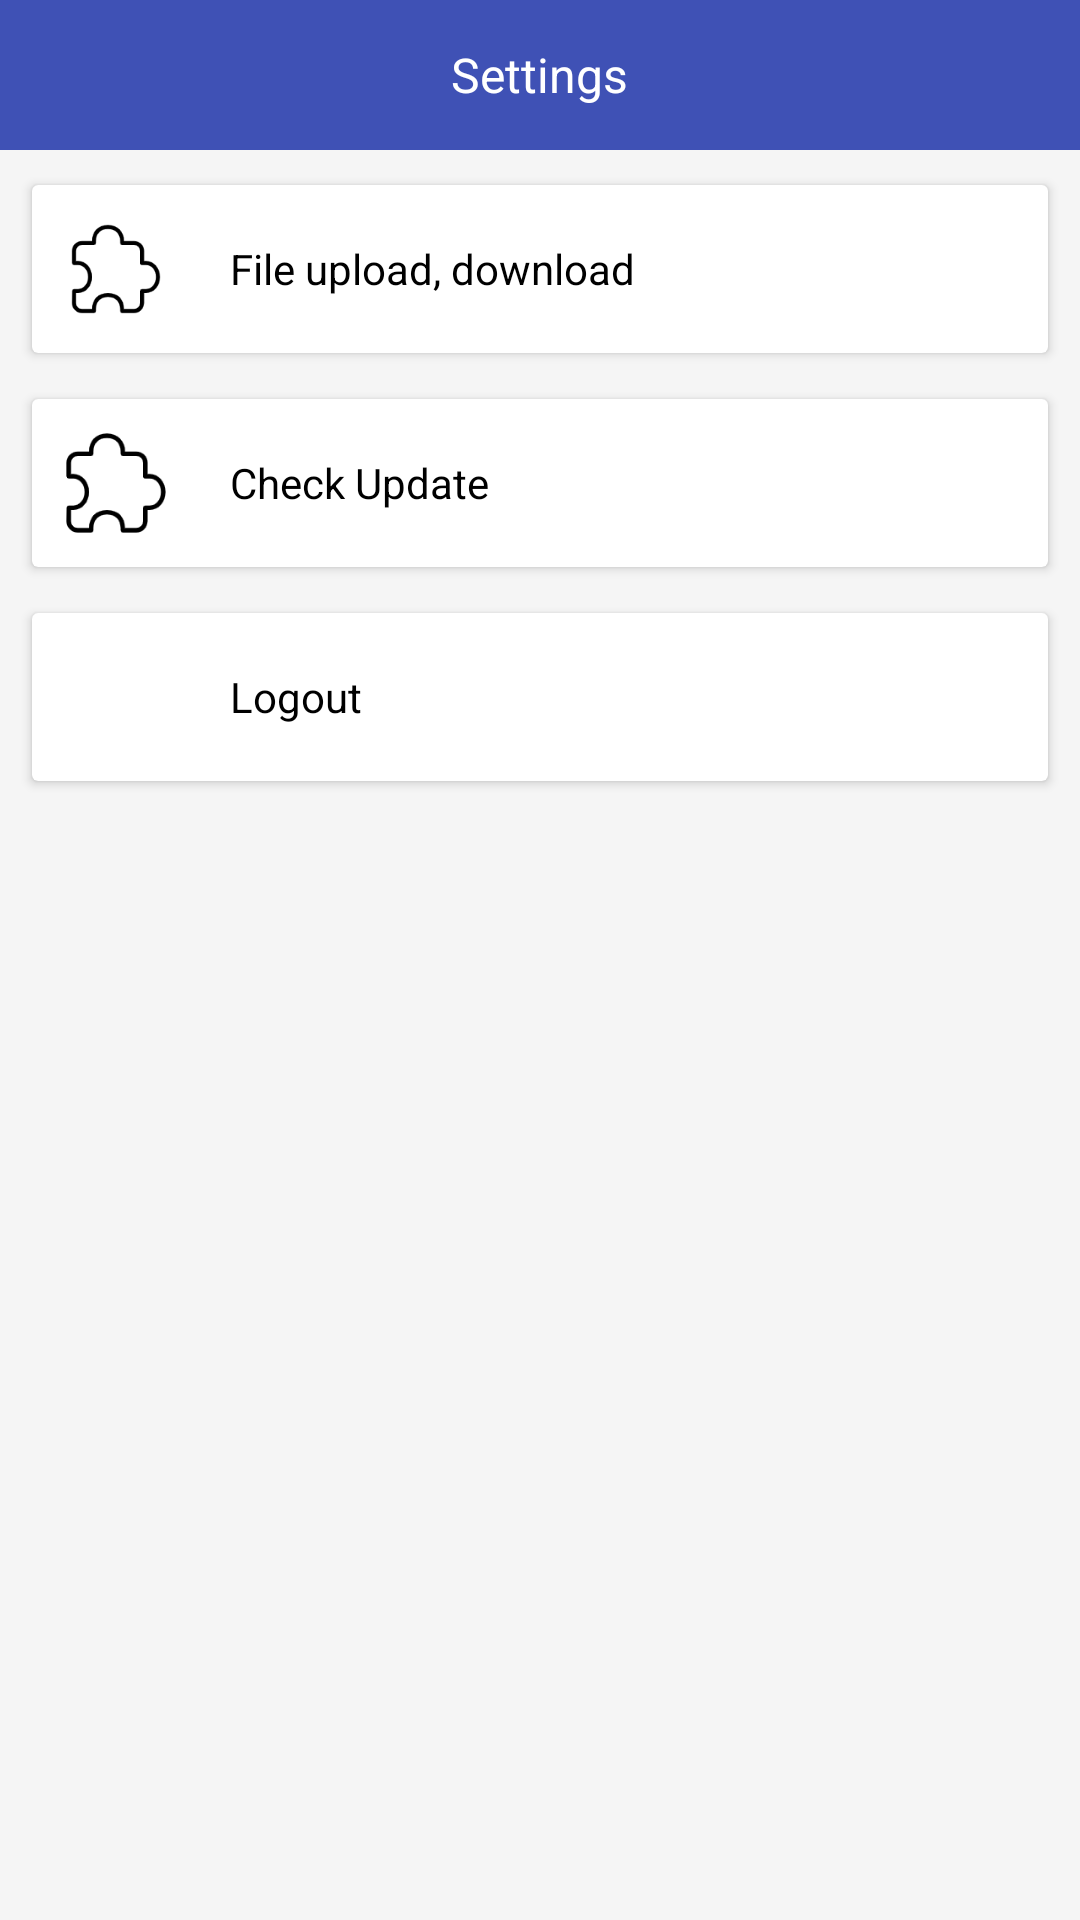

Named icons in this screenshot (1080×1920) and their bounding boxes, detection(x1, y1, x2, y2):
custom: detection(71, 224, 161, 314), detection(66, 433, 166, 533)
